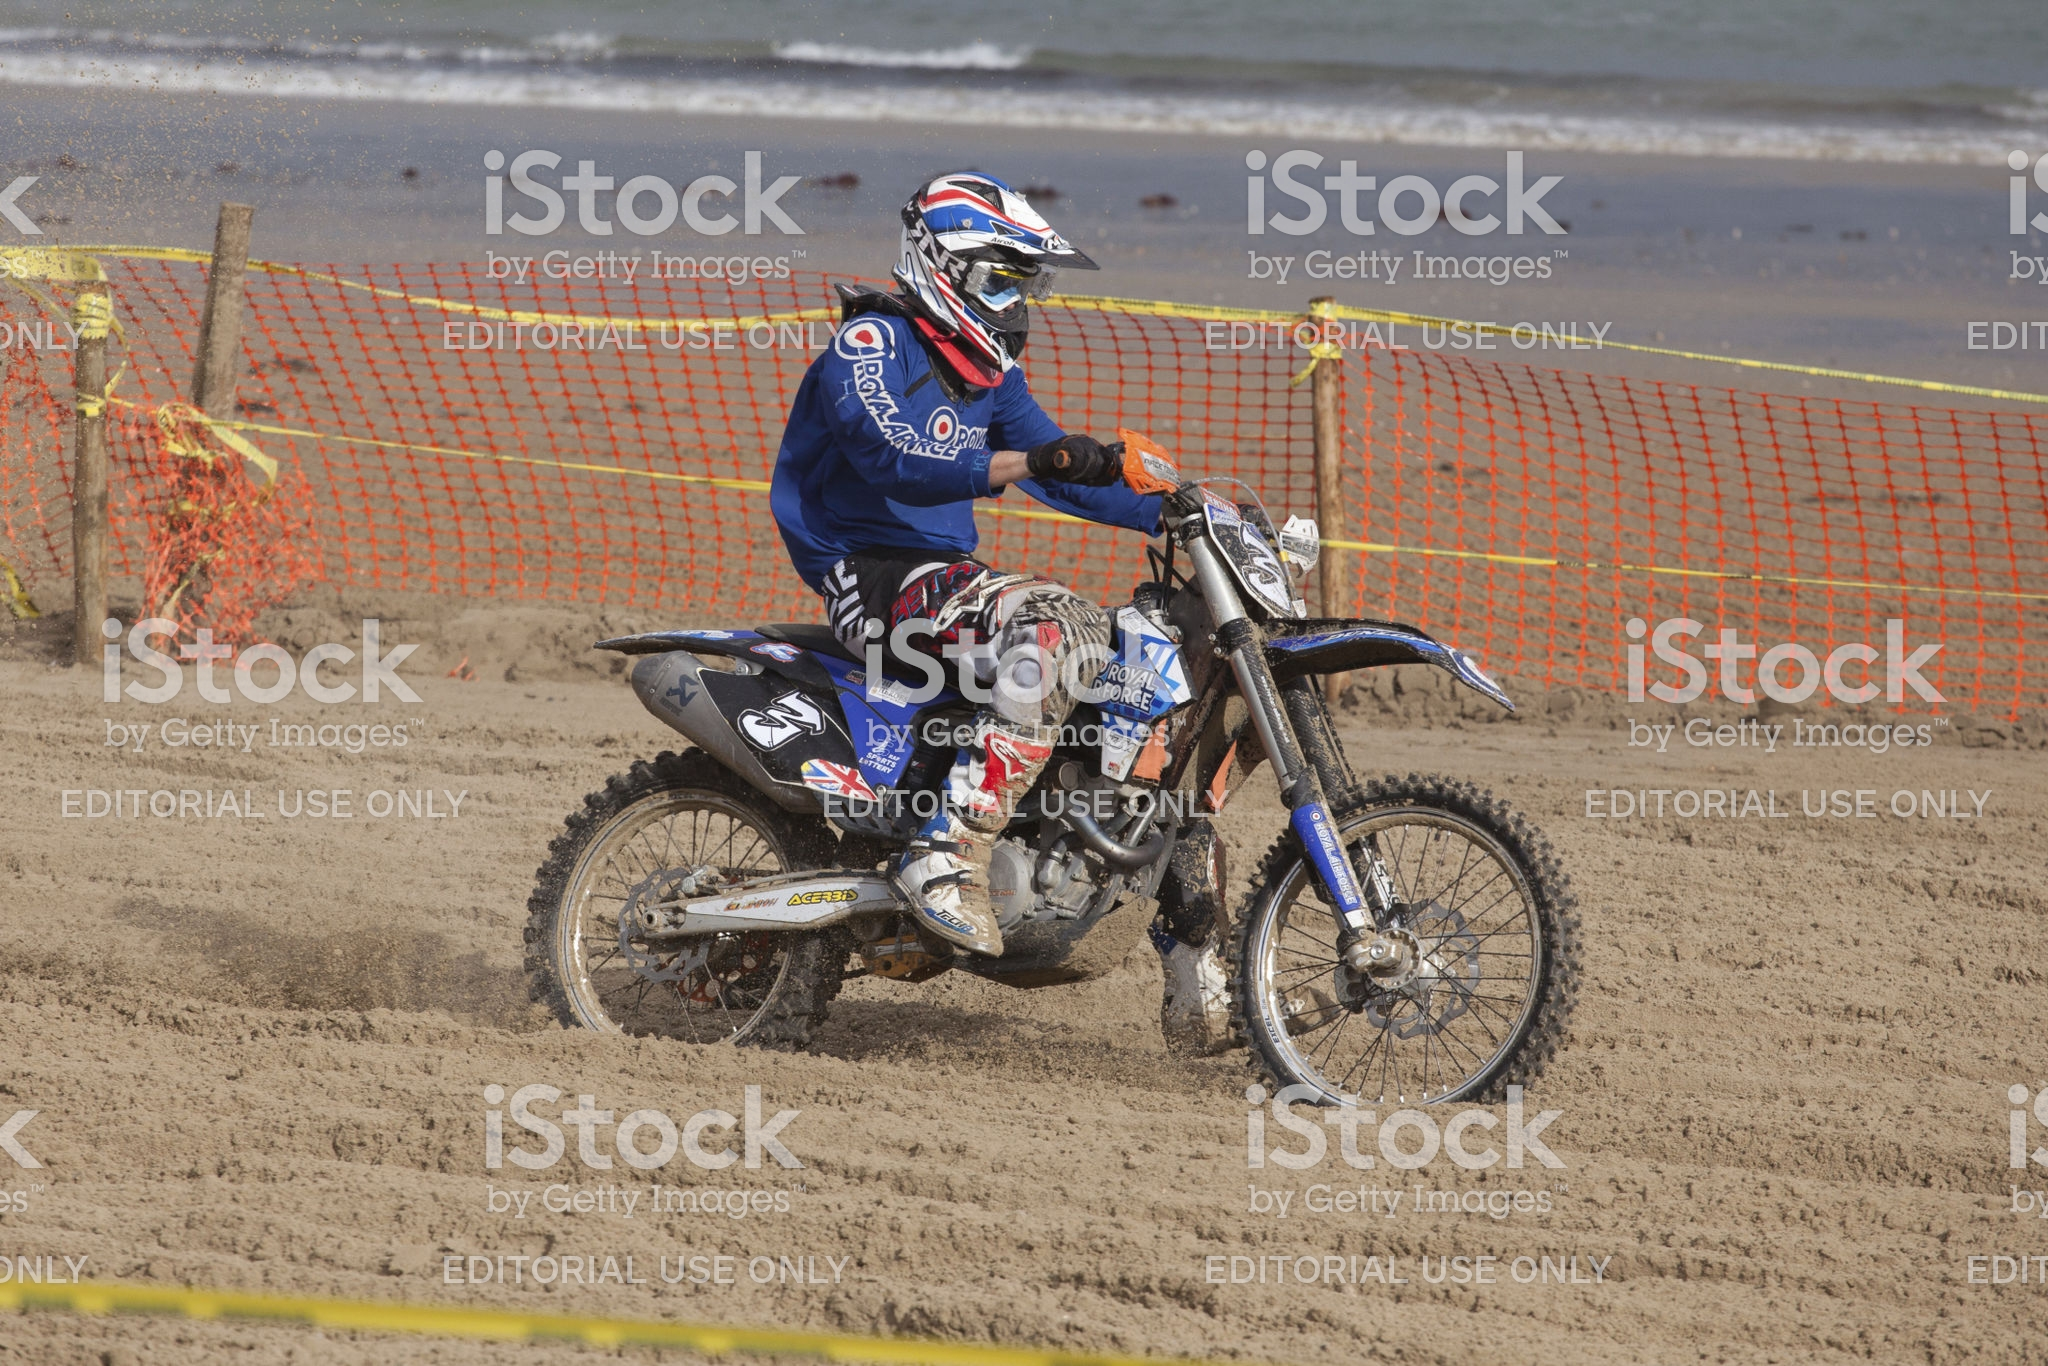helmet: (885, 140, 1109, 358)
